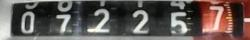digits: (165, 10, 189, 38), (86, 8, 110, 32), (131, 9, 149, 33), (208, 6, 224, 29), (20, 11, 35, 33), (55, 14, 71, 32)
